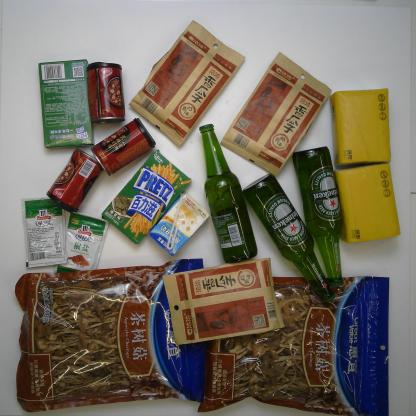Alcohol: (243, 172, 336, 304), (198, 122, 258, 264), (292, 146, 346, 288)
Canned Food: (89, 116, 157, 176), (46, 149, 104, 213), (86, 61, 126, 124)
Dessert: (101, 149, 193, 246), (37, 59, 95, 148)
Dried Food: (13, 257, 207, 413), (196, 275, 390, 416), (129, 21, 246, 147), (220, 53, 332, 177), (161, 257, 285, 346)
Milk: (147, 191, 210, 257)
Seasoner: (53, 211, 109, 277), (20, 196, 68, 268)
Tissue: (334, 162, 402, 245), (328, 88, 392, 166)
